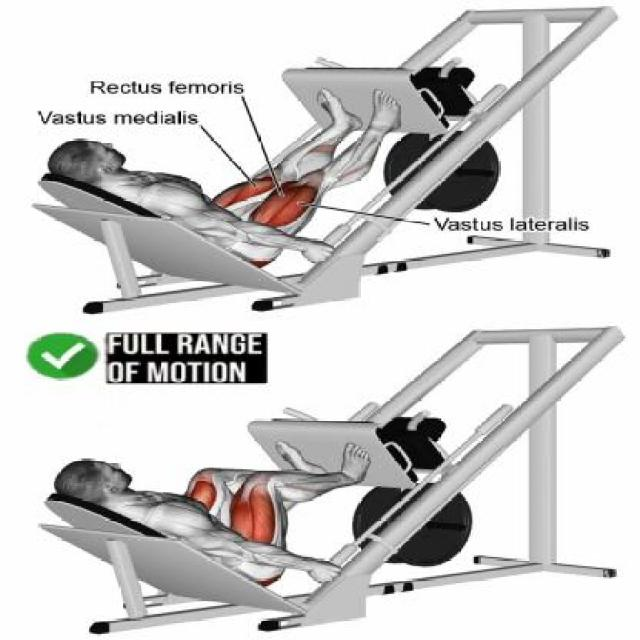leg press: (29, 318, 640, 640), (10, 0, 623, 312)
